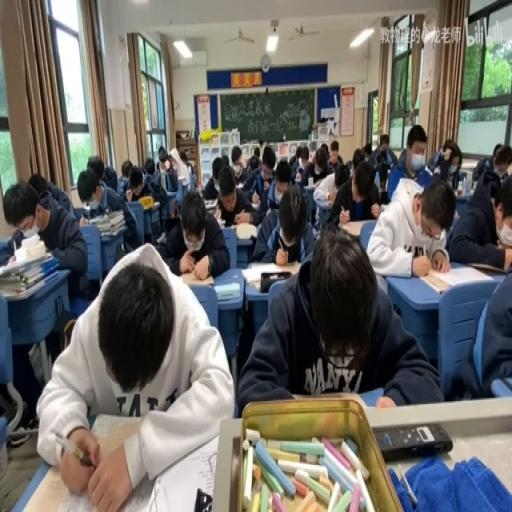calculator: (421, 263, 494, 292), (243, 258, 300, 282), (179, 267, 211, 286), (339, 218, 372, 234), (214, 282, 240, 300), (234, 222, 258, 240), (99, 208, 124, 222), (99, 222, 125, 235), (164, 215, 182, 232), (20, 225, 38, 239), (303, 181, 317, 196), (203, 196, 218, 208), (243, 277, 262, 286), (88, 214, 104, 224), (213, 206, 222, 222), (155, 232, 165, 243), (177, 174, 187, 184), (250, 201, 262, 209), (323, 198, 335, 206), (149, 199, 159, 206), (236, 181, 243, 189)
paper: (36, 240, 234, 510), (237, 226, 436, 417), (4, 175, 90, 301), (367, 176, 453, 278), (158, 186, 229, 280), (78, 165, 140, 259), (251, 178, 317, 263), (323, 158, 381, 230), (210, 164, 258, 230), (425, 138, 462, 192), (470, 142, 510, 189), (300, 145, 334, 186), (156, 145, 181, 188), (371, 132, 397, 170), (494, 184, 512, 238), (27, 171, 50, 196), (86, 155, 104, 181), (328, 138, 344, 166), (101, 164, 117, 192), (334, 164, 350, 189), (146, 171, 162, 195), (178, 151, 192, 175), (262, 148, 275, 173), (351, 146, 365, 168), (230, 148, 242, 171), (378, 164, 388, 189), (143, 155, 156, 174), (288, 145, 298, 168), (121, 159, 133, 178), (188, 169, 195, 192), (362, 142, 372, 158), (248, 155, 258, 171), (320, 142, 330, 158), (493, 144, 502, 156), (220, 154, 229, 165), (157, 144, 165, 156), (309, 149, 316, 162), (253, 145, 259, 157)
person: (373, 422, 453, 461), (193, 488, 212, 509)
